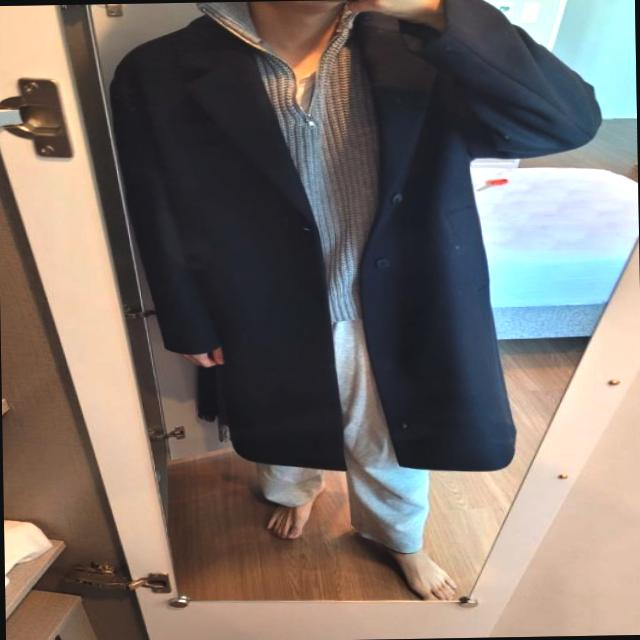coat: (106, 0, 603, 477)
sweater: (189, 0, 392, 321)
trainingpants: (247, 316, 430, 558)
